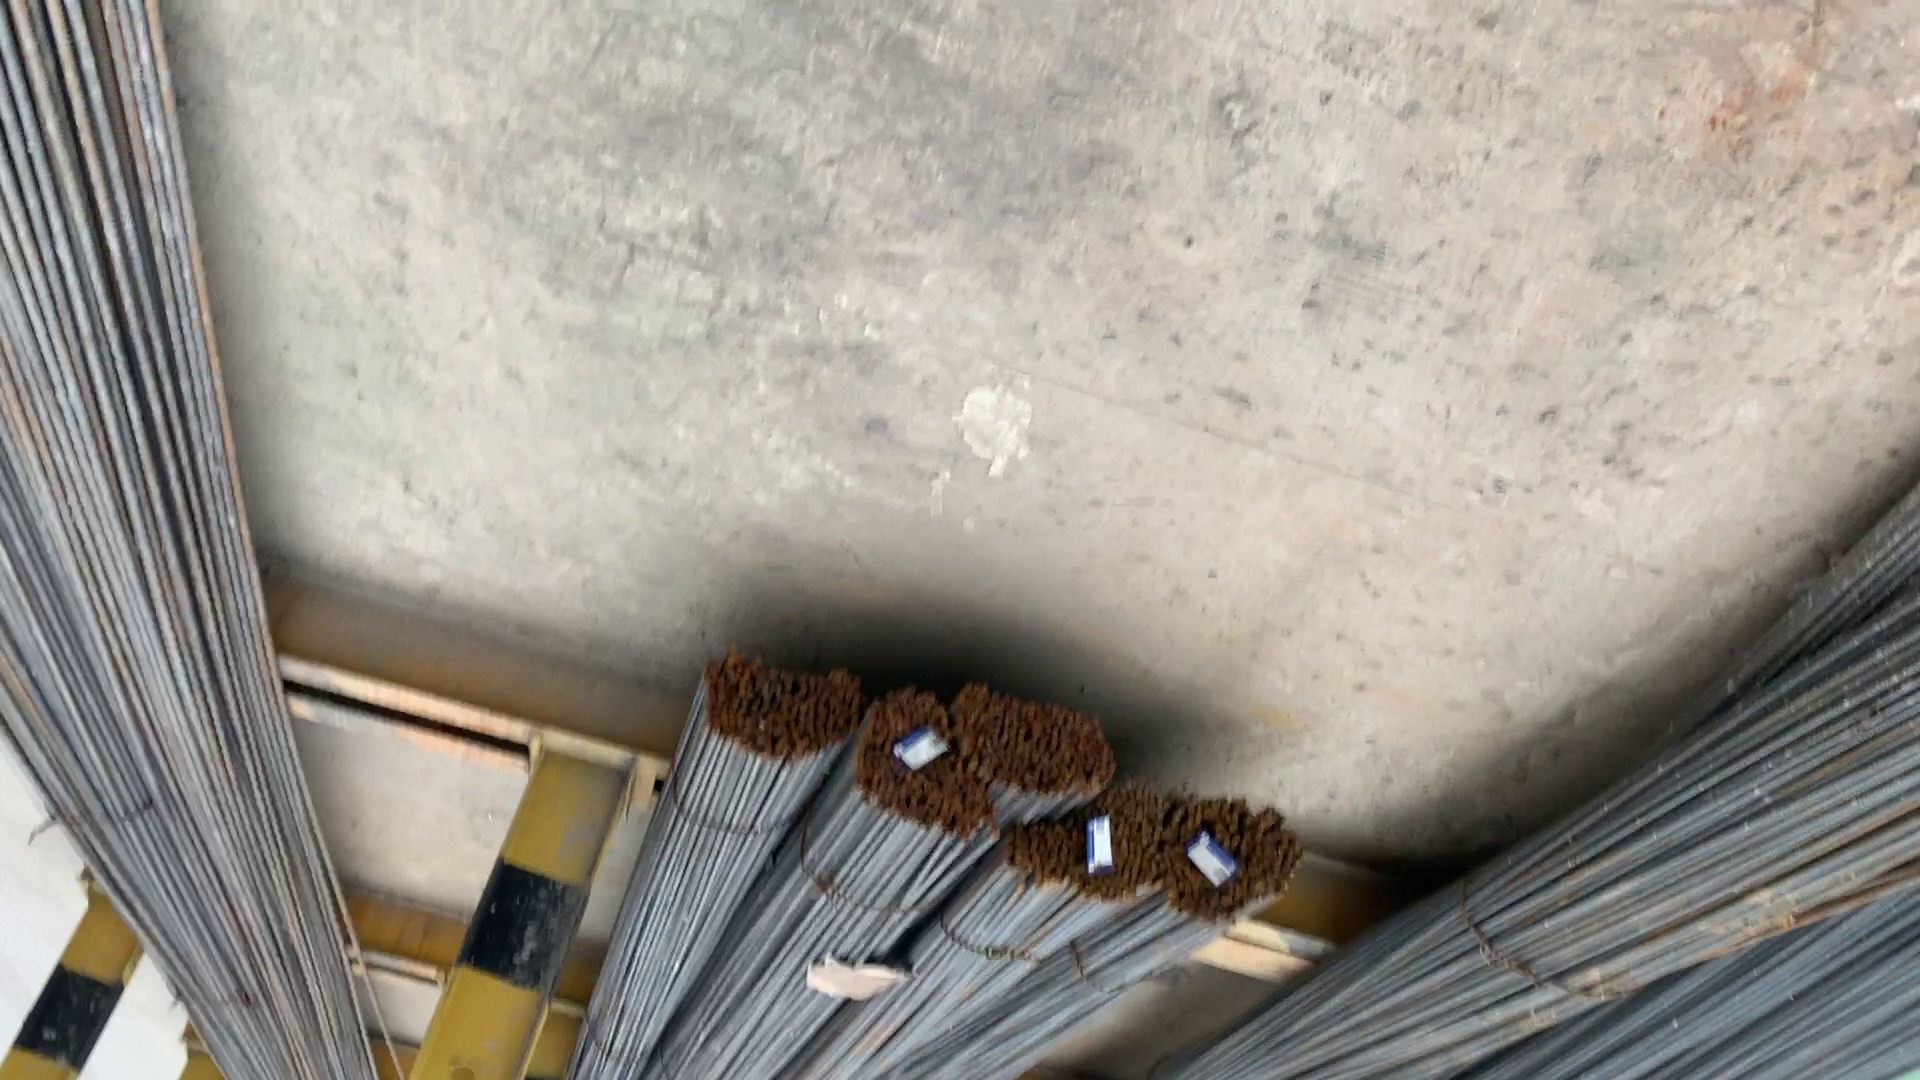rebar: (699, 654, 853, 769), (967, 688, 1118, 803), (865, 700, 982, 843), (1158, 810, 1303, 915), (1025, 793, 1164, 895)
